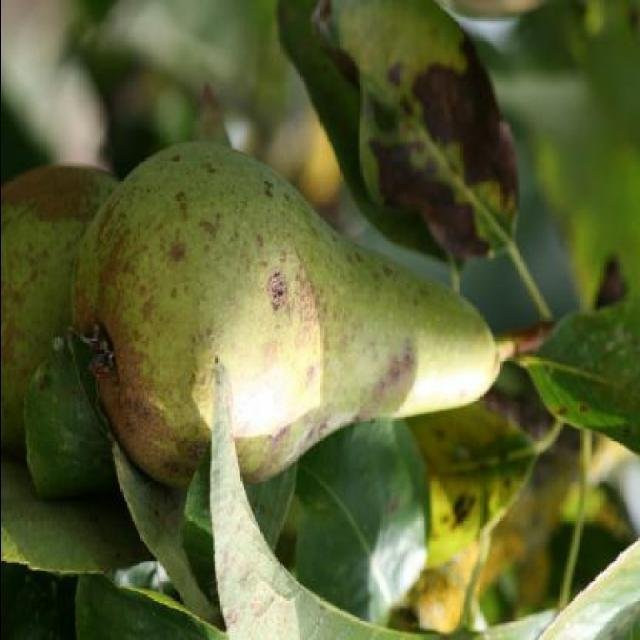Pear: (71, 143, 500, 486), (0, 164, 114, 466)
